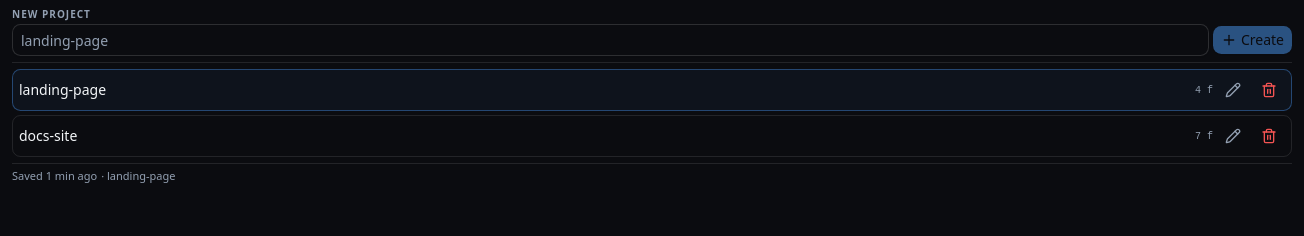
ProjectSwitcher › keeps the project when the confirmation is cancelled
Click the button named "Delete docs-site" at (1269, 136), box [1253, 120, 1285, 152]
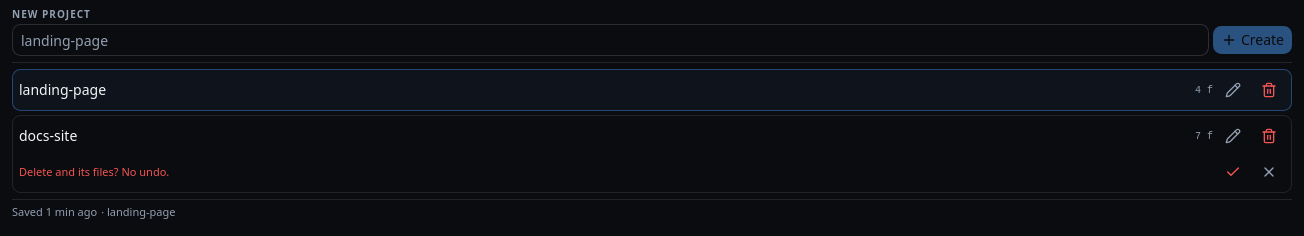
Click the button named "Keep it" at (1269, 172), box [1253, 156, 1285, 188]
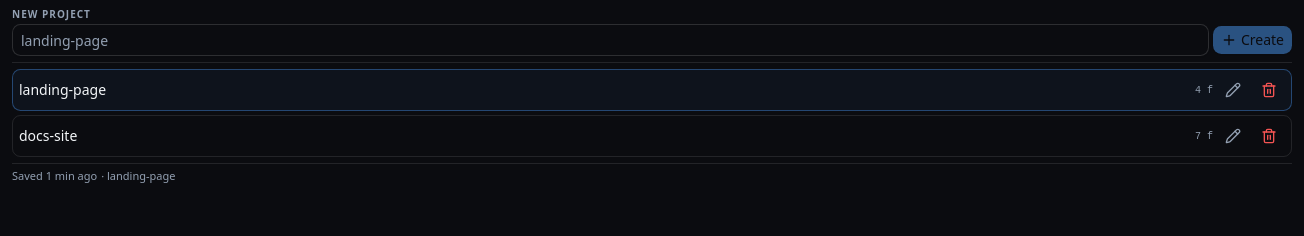
Now the element with test id "project-delete-confirm" is gone
